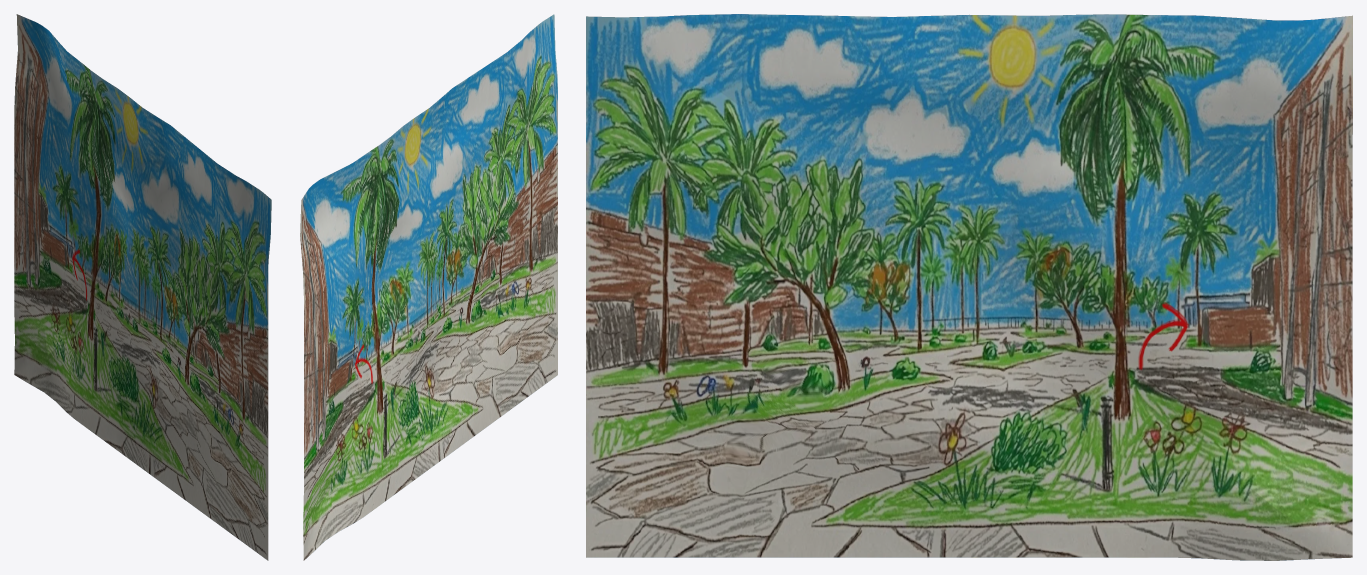
File: Painting%20Note.fbx
3 renders of one model, left to right at view 1: azimuth 30°, elevation 25°; view 2: azimuth 150°, elevation 25°; view 3: azimuth 270°, elevation 25°, orthographic. The views are drawn at different scales.
Visible parts, largest first — view 1: pPlane1; view 2: pPlane1; view 3: pPlane1.
Part boxes in pixels (x1,y1,x2,y2): pPlane1: (14,14,271,560); pPlane1: (300,14,557,560); pPlane1: (586,14,1352,560).
Bounding box in the file's own units: 0.0294 × 0.7832 × 1.
1 material, 1 textured.
